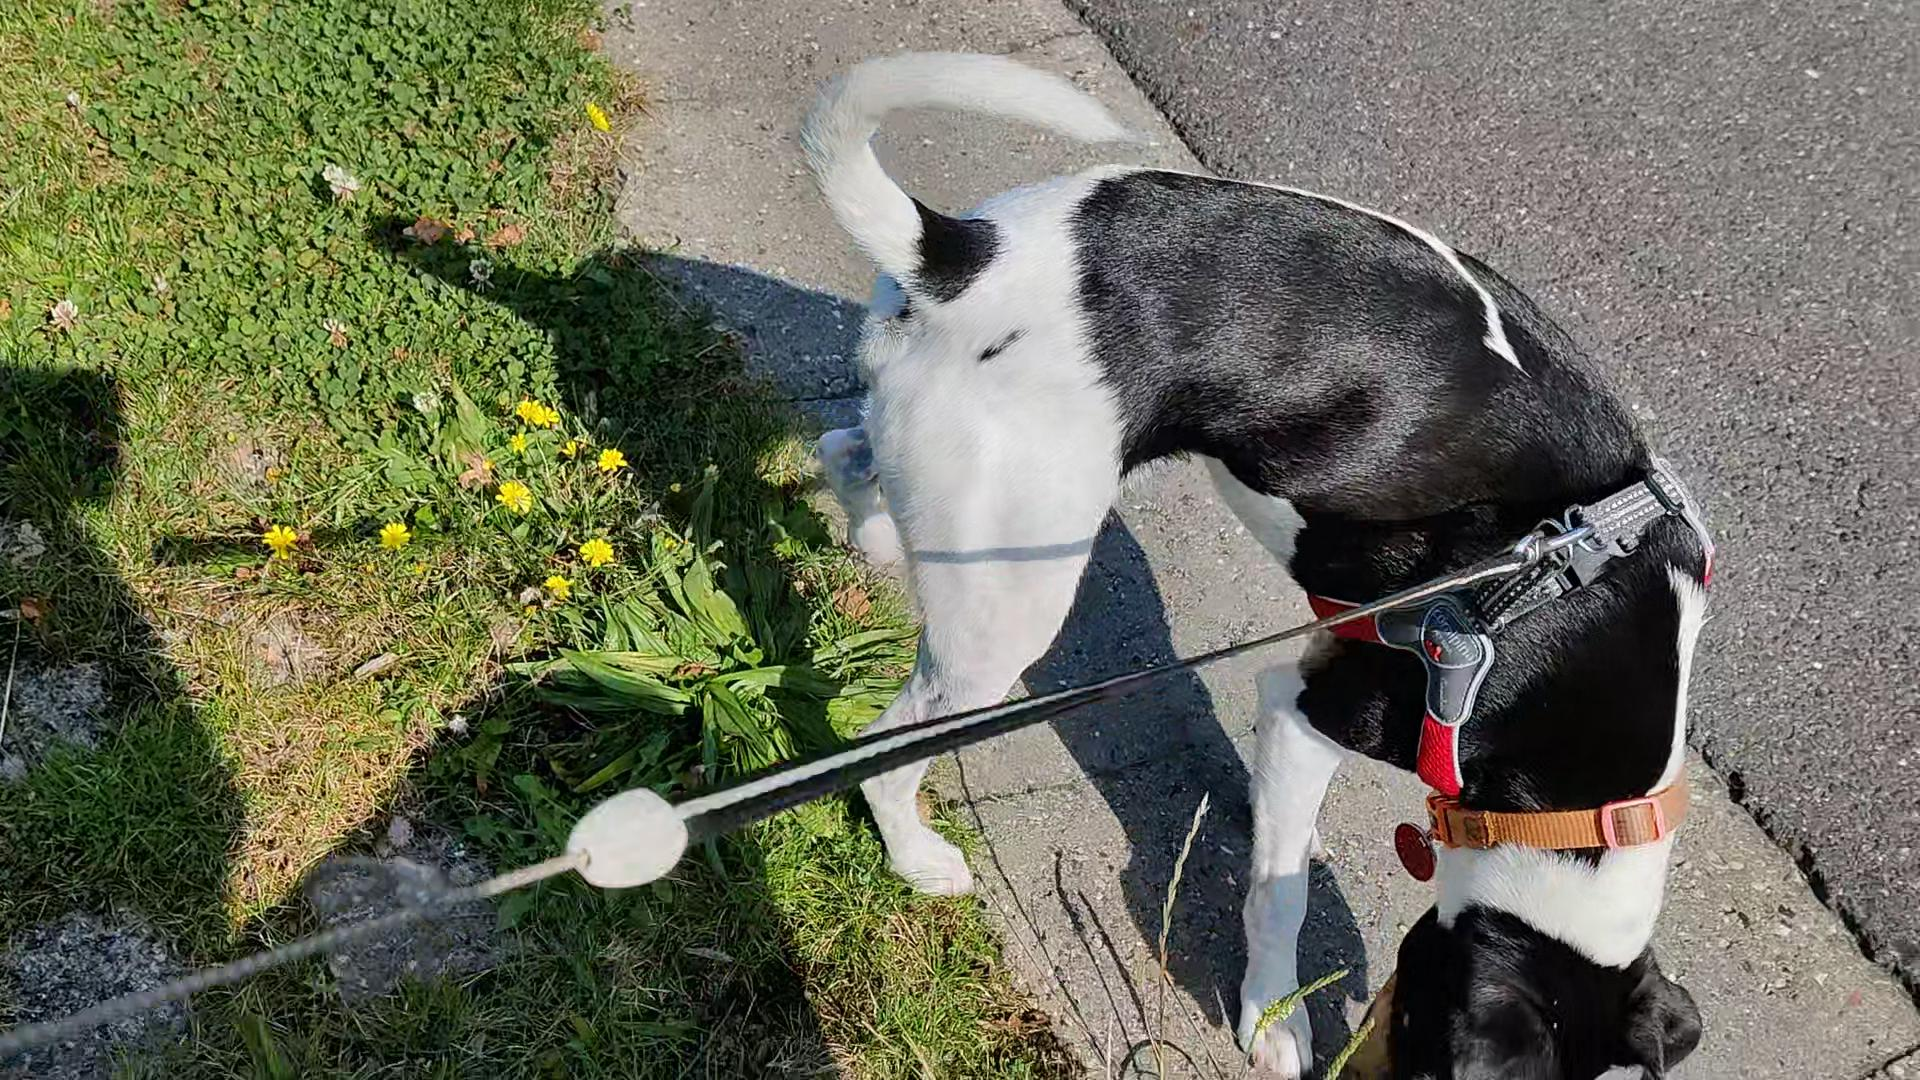Dog: (774, 37, 1731, 1079)
